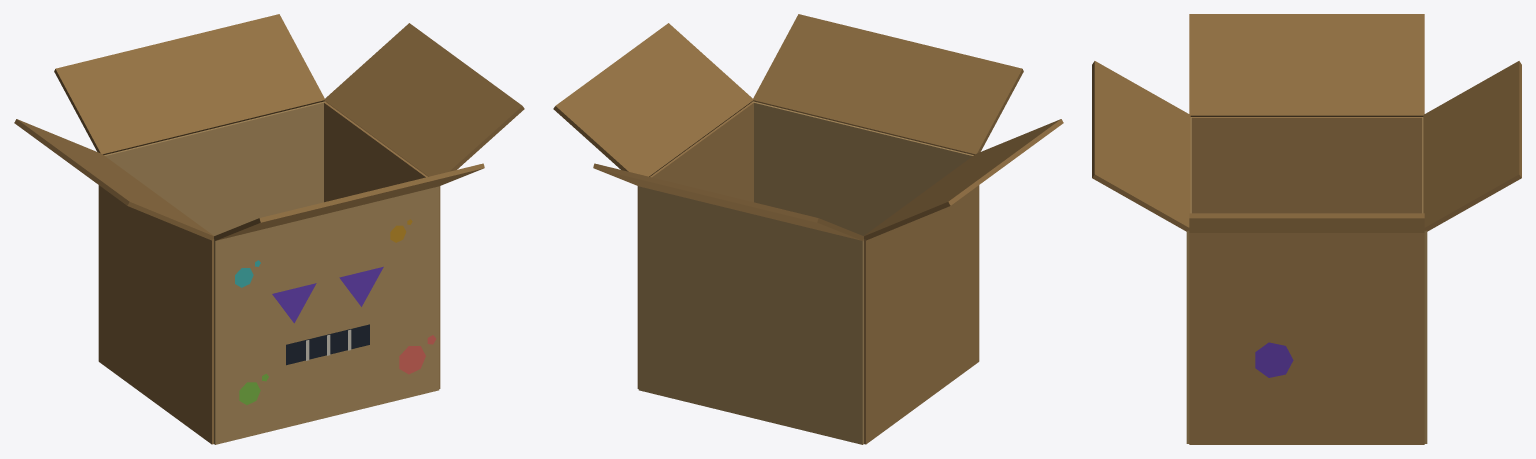
File: caixa_robo_3.glb
The picture shows the model from 3 angles, left to right: view 1: azimuth 30°, elevation 25°; view 2: azimuth 150°, elevation 25°; view 3: azimuth 270°, elevation 25°; orthographic projection. The views are drawn at different scales.
Parts seen in each view (by area): view 1: caixa_robo_3_malha; view 2: caixa_robo_3_malha; view 3: caixa_robo_3_malha.
Part boxes in pixels (x1,y1,x2,y2): caixa_robo_3_malha: [14, 14, 524, 444]; caixa_robo_3_malha: [553, 14, 1063, 444]; caixa_robo_3_malha: [1092, 14, 1521, 444].
Bounding box in the file's own units: 1.42 × 0.8971 × 1.28.
